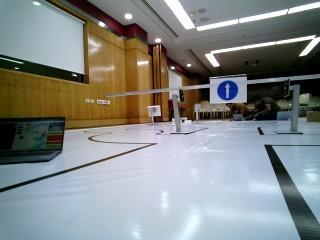straight: (210, 79, 249, 103)
